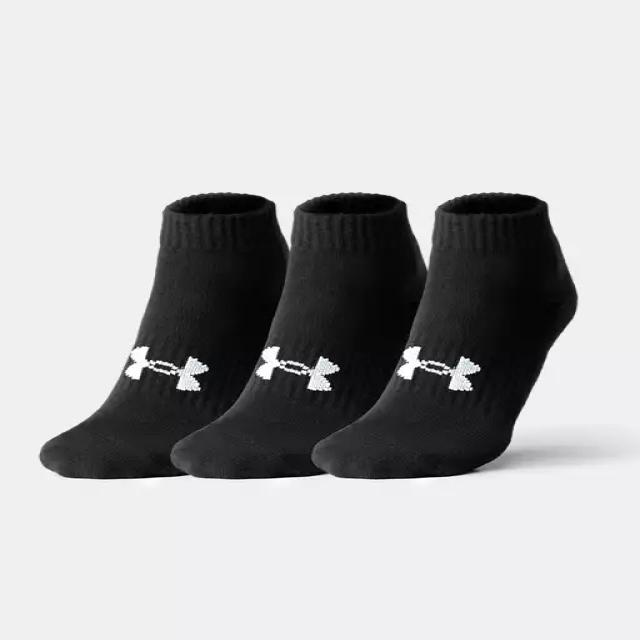sock: (308, 190, 578, 479), (168, 190, 428, 479), (38, 190, 290, 479)
